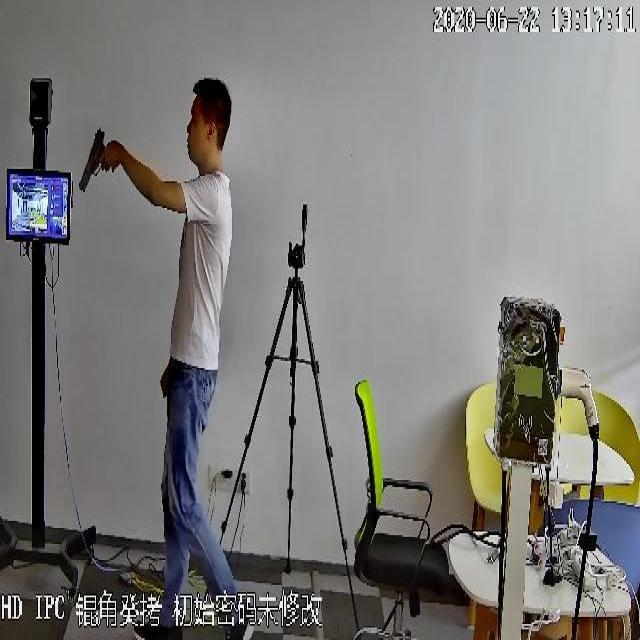pistol: (78, 128, 114, 194)
